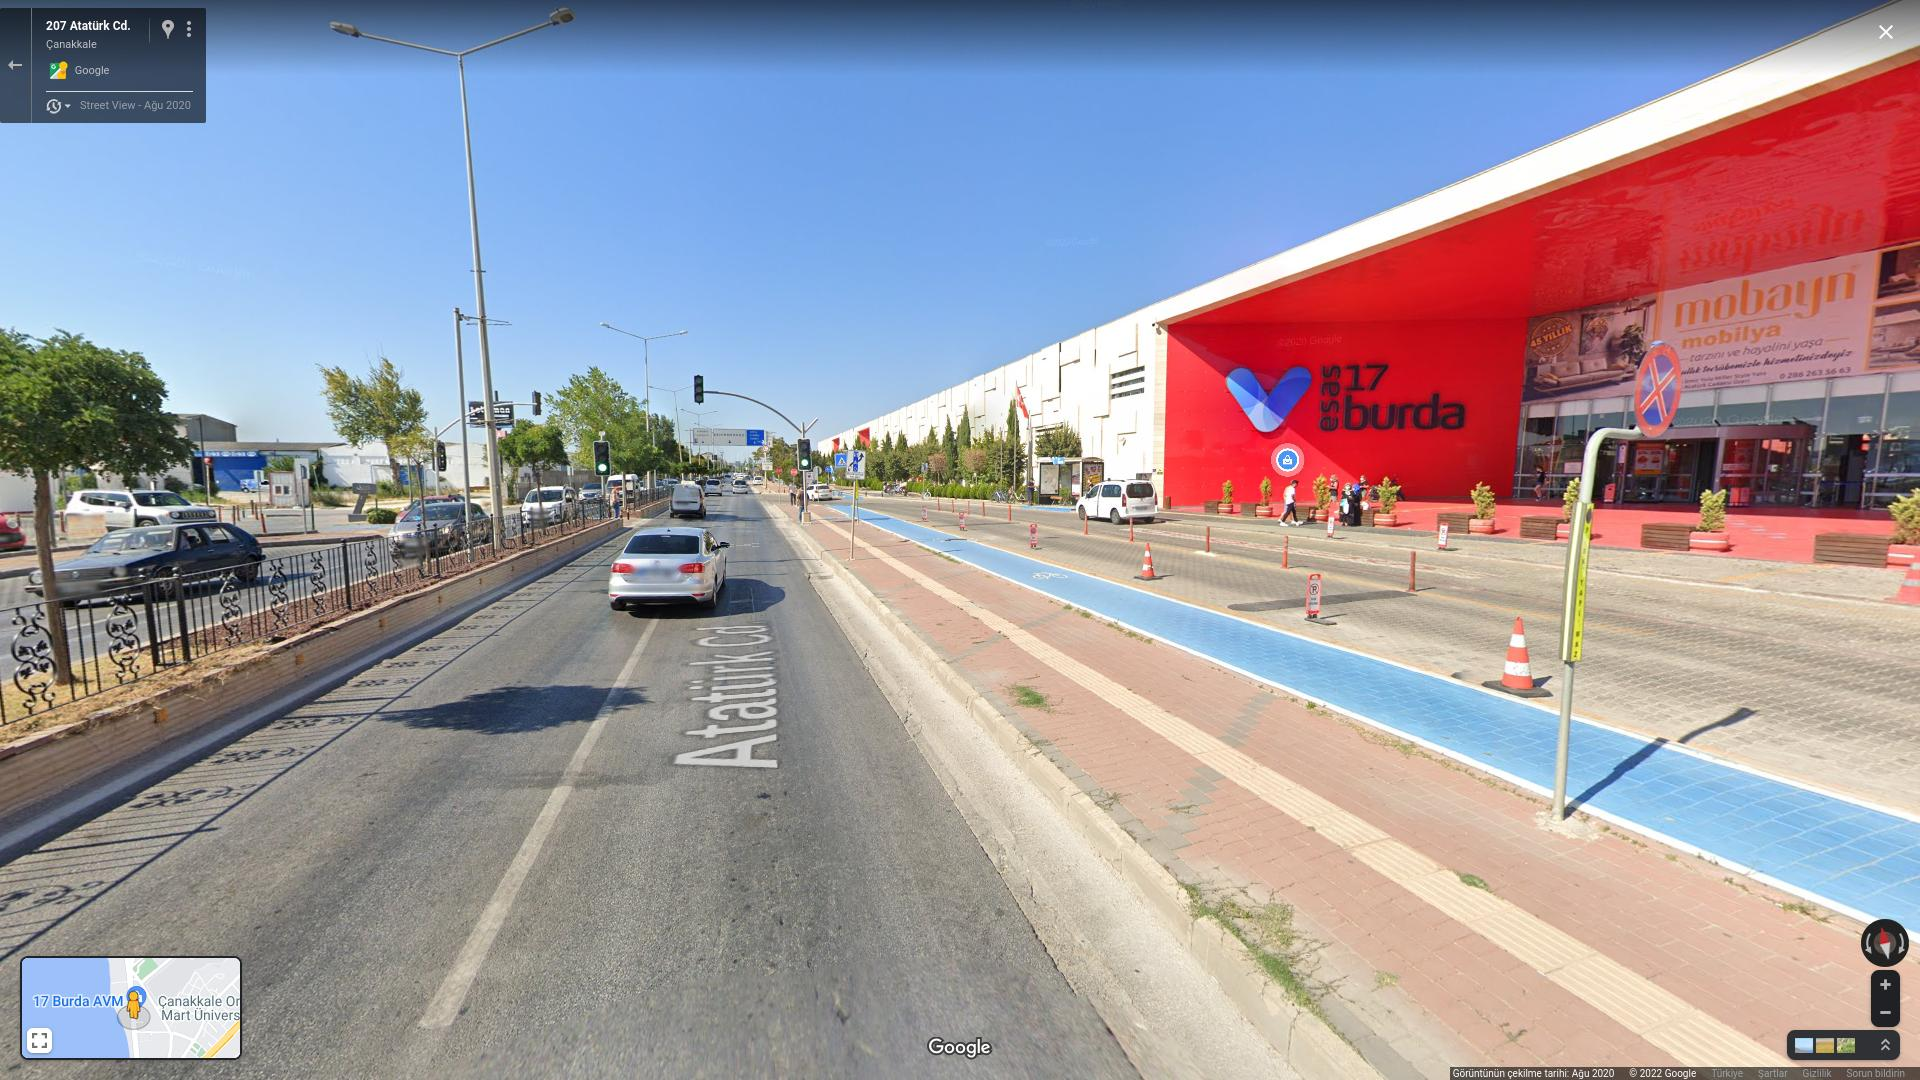greenlight: (593, 439, 609, 476), (798, 439, 811, 472)
